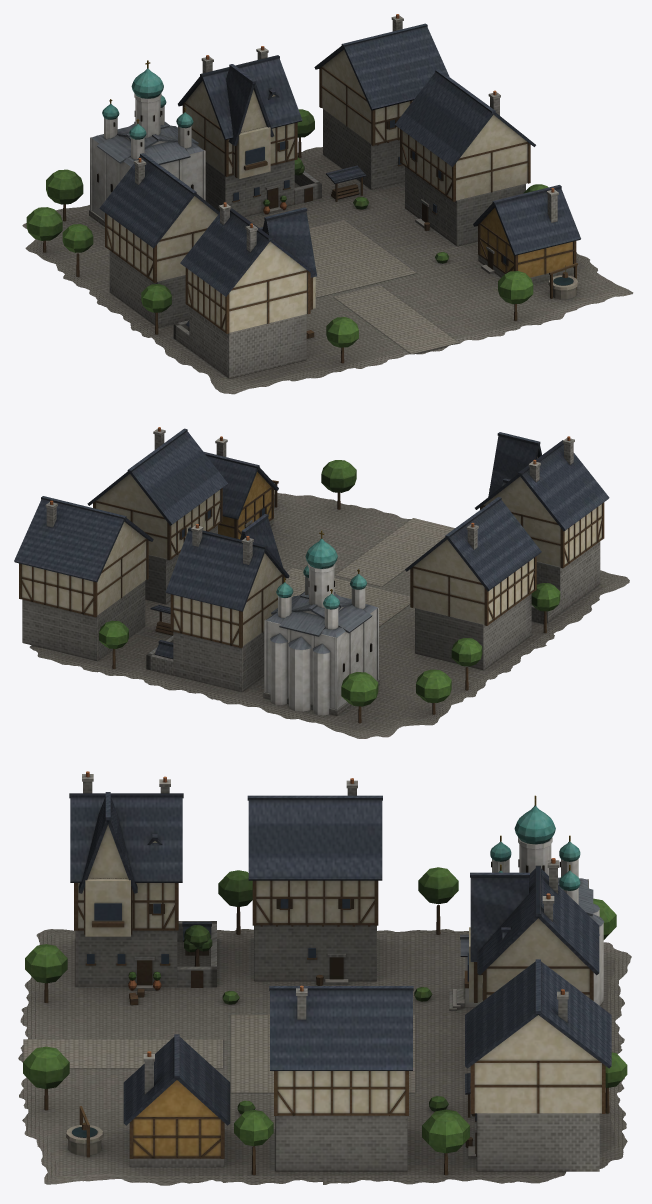
File: kingdoms-town-small-a-easteurope.glb
3 renders of one model, top to bottom at view 1: azimuth 30°, elevation 25°; view 2: azimuth 150°, elevation 25°; view 3: azimuth 270°, elevation 25°, orthographic. The views are drawn at different scales.
Parts seen in each view (by area): view 1: LOD0; view 2: LOD0; view 3: LOD0.
Part boxes in pixels (box(x1,y1,x2,y2)): LOD0: box(22, 14, 633, 394); LOD0: box(14, 427, 629, 738); LOD0: box(18, 771, 631, 1185).
Size of what is drawn, in the model's own units: 4.02 by 1.5 by 4.06.
Materials: 2 (2 with a texture image).
